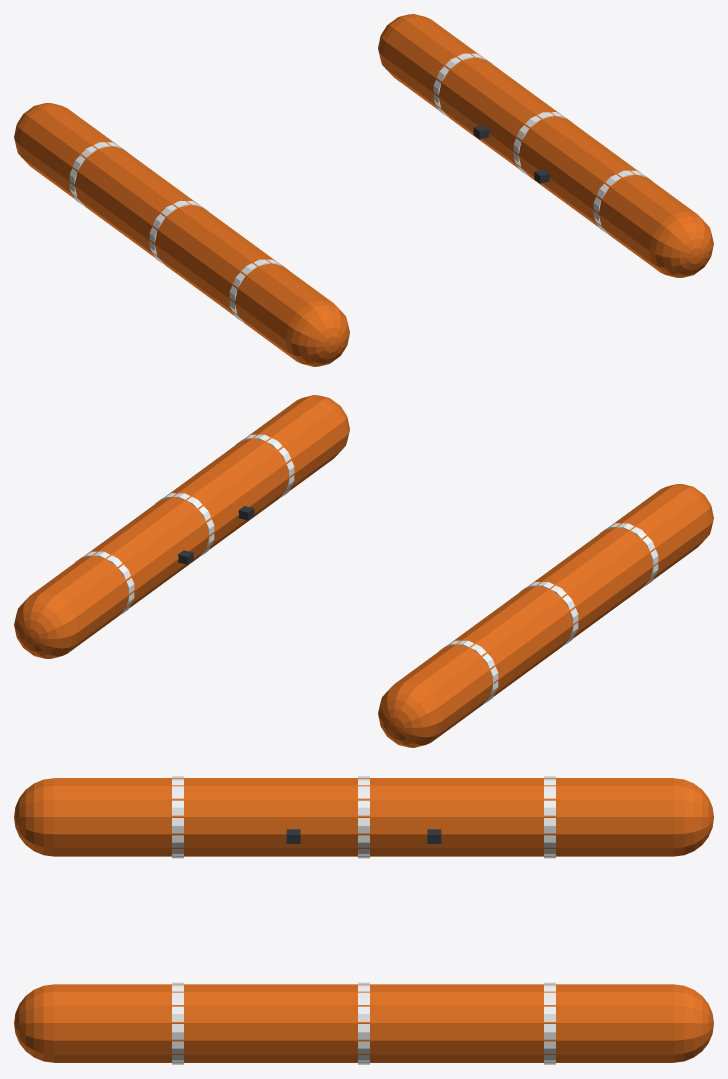
The model's file is apex_v8.glb.
The picture shows the model from 3 angles, top to bottom: view 1: azimuth 30°, elevation 25°; view 2: azimuth 150°, elevation 25°; view 3: azimuth 270°, elevation 25°; orthographic projection. The views are drawn at different scales.
Parts seen in each view (by area): view 1: model; view 2: model; view 3: model.
Boxes of the visible parts, box(x1,y1,x2,y2) form: model: box(14, 14, 713, 366); model: box(14, 395, 713, 747); model: box(14, 776, 713, 1064).
Bounding box in the file's own units: 2.83 × 0.4081 × 3.49.
Materials: 1 (1 with a texture image).
